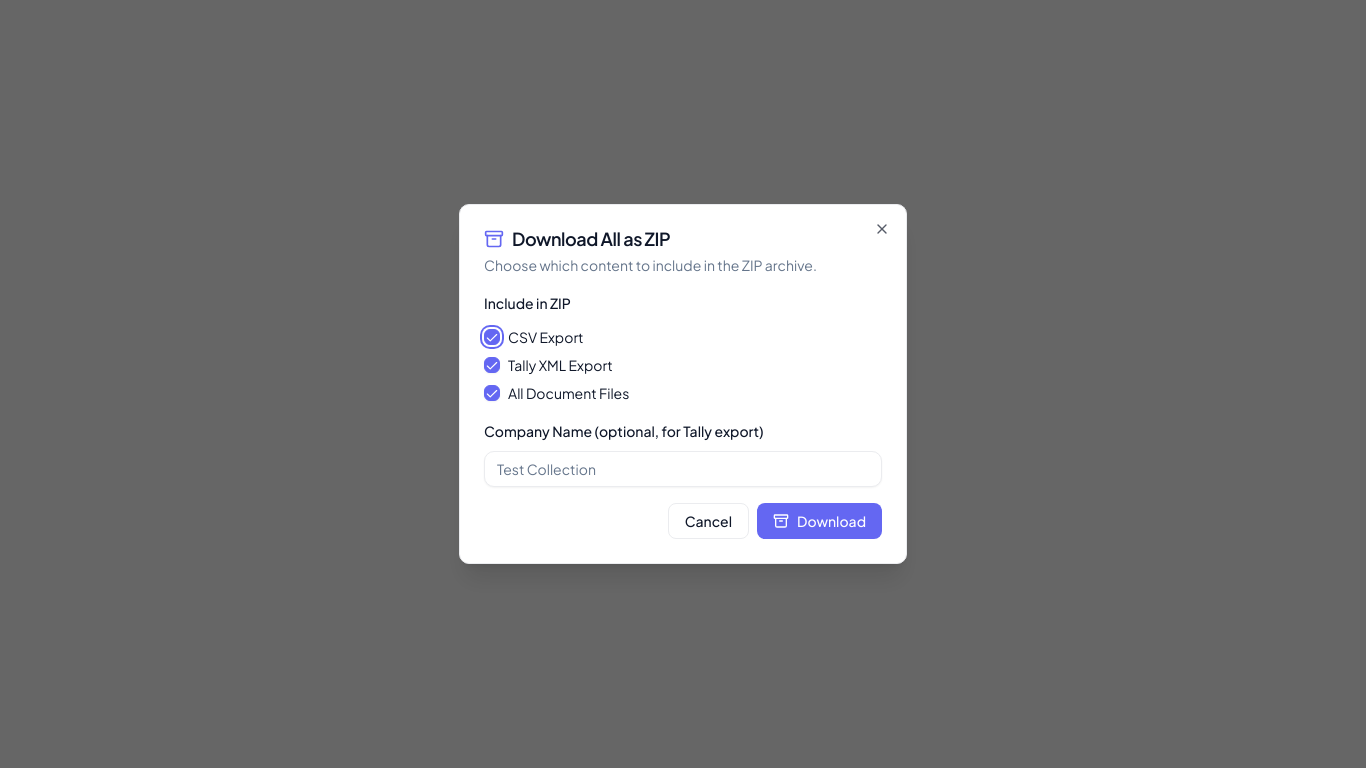
Test: ZipExportDialog › disables download button when all checkboxes are unchecked
The image size is (1366, 768).
Click the checkbox named "CSV Export" next to "CSV Export": (492, 337) [484,329,500,345]
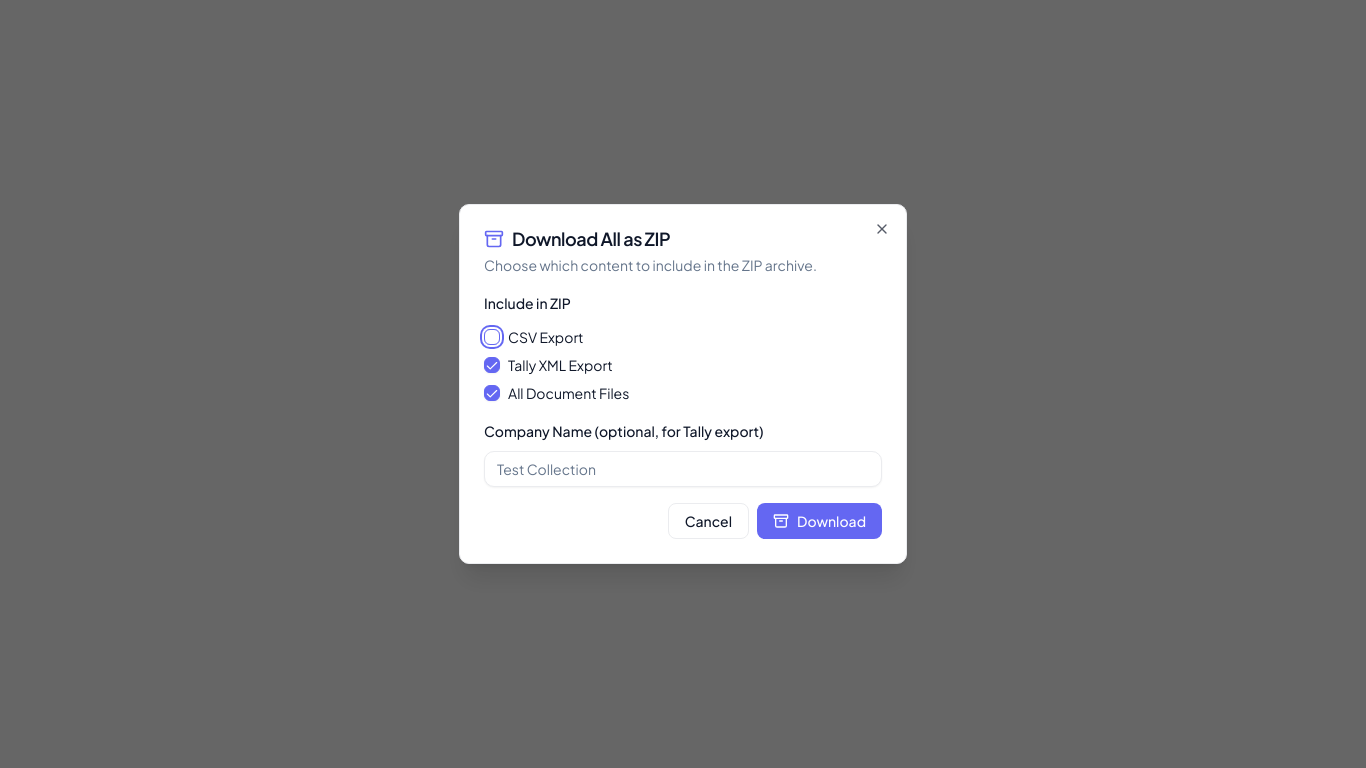
Click the checkbox named "Tally XML Export" next to "Tally XML Export": (492, 365) [484,357,500,373]
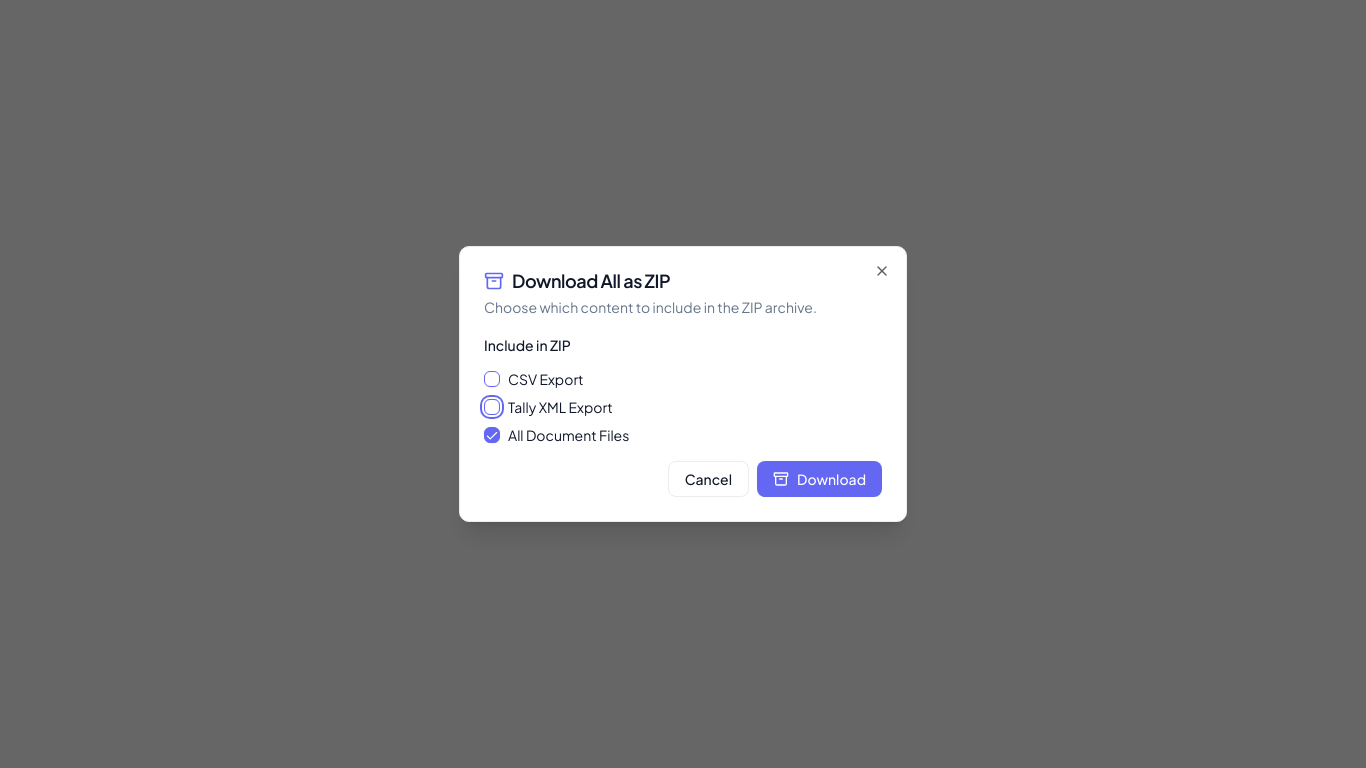
Click the checkbox named "All Document Files" next to "All Document Files": (492, 435) [484,427,500,443]
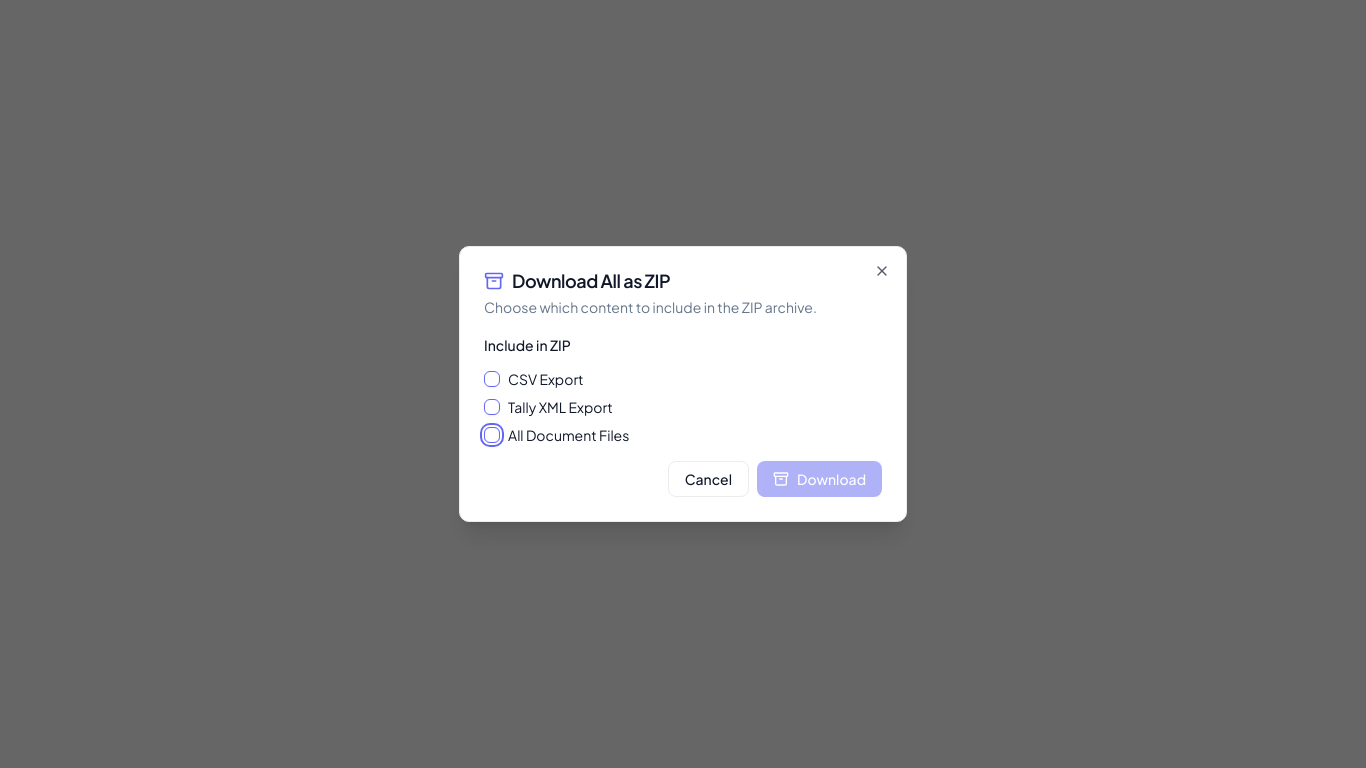
Now the button "Download" is disabled, box [757,461,882,497]
